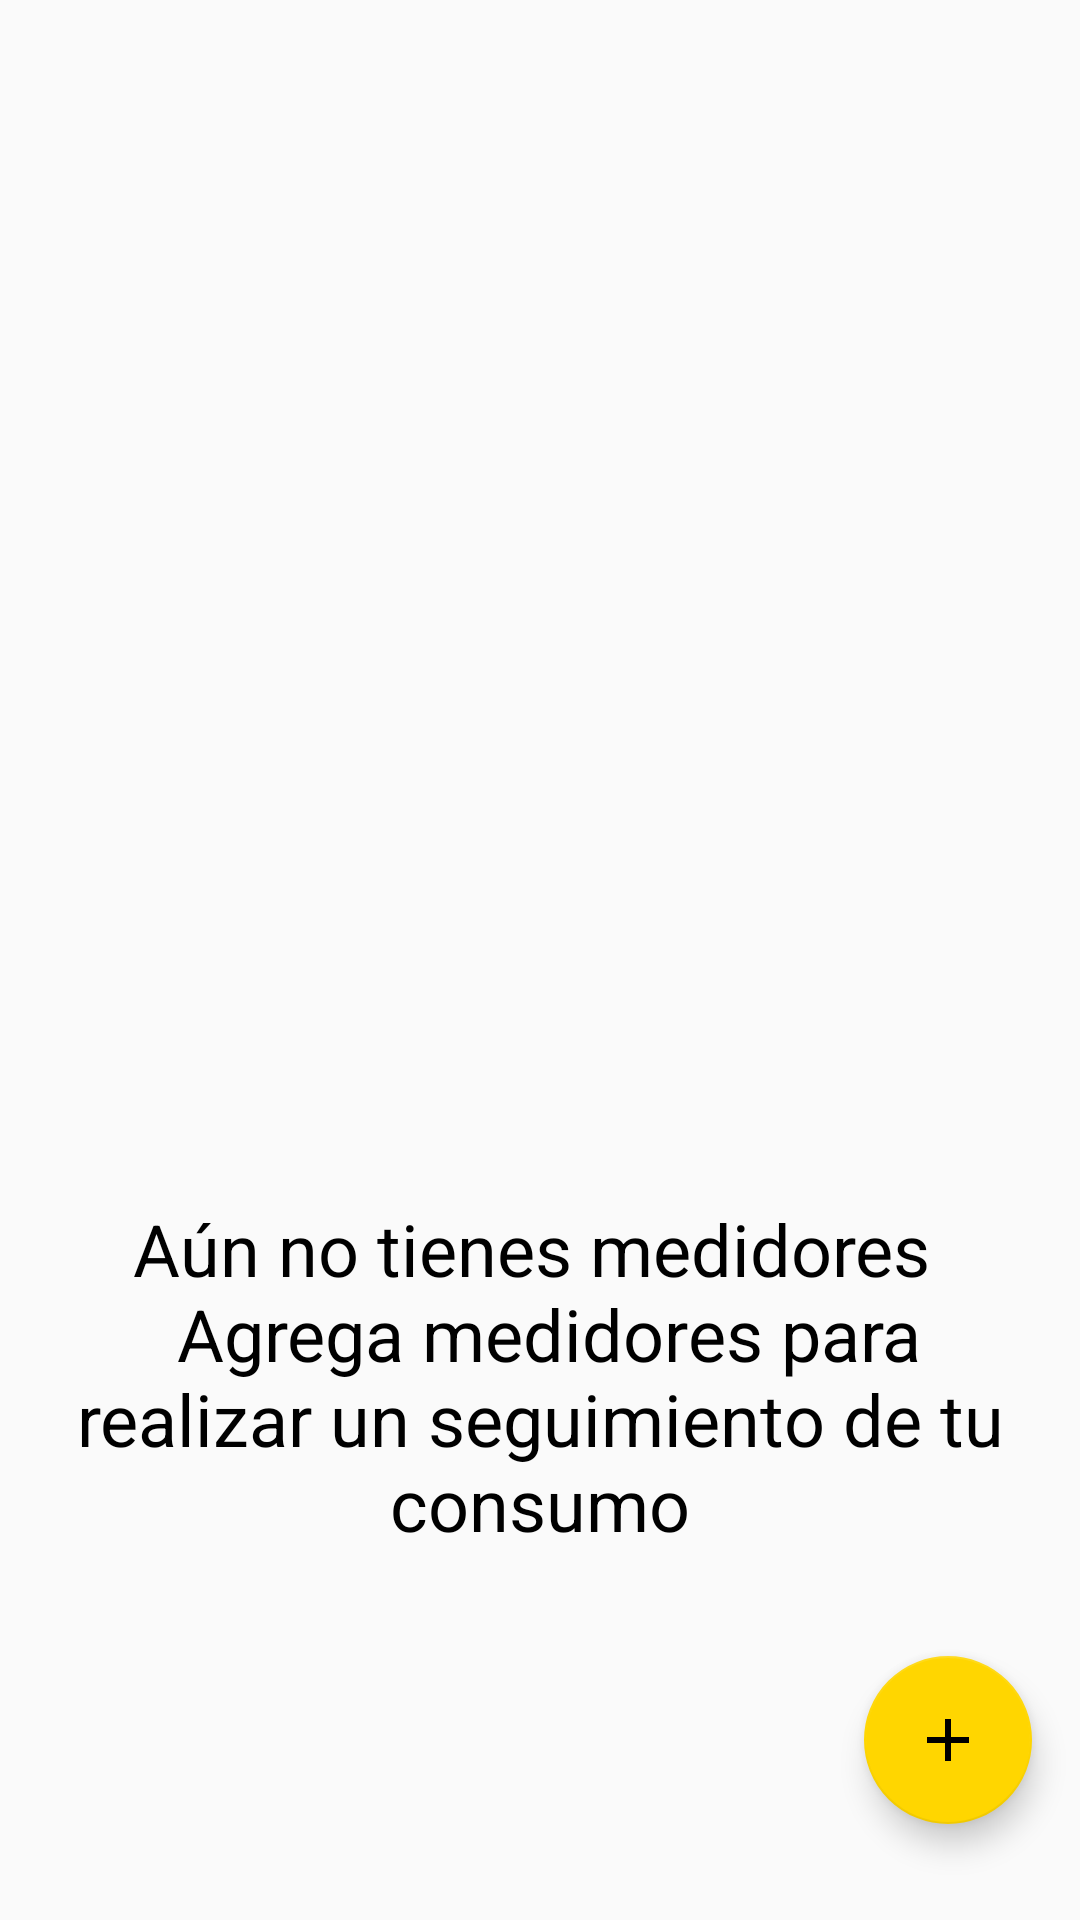

Point at icon controls on the screen. Image size 1080 × 1920, points as (x,y).
add: (948,1740)
